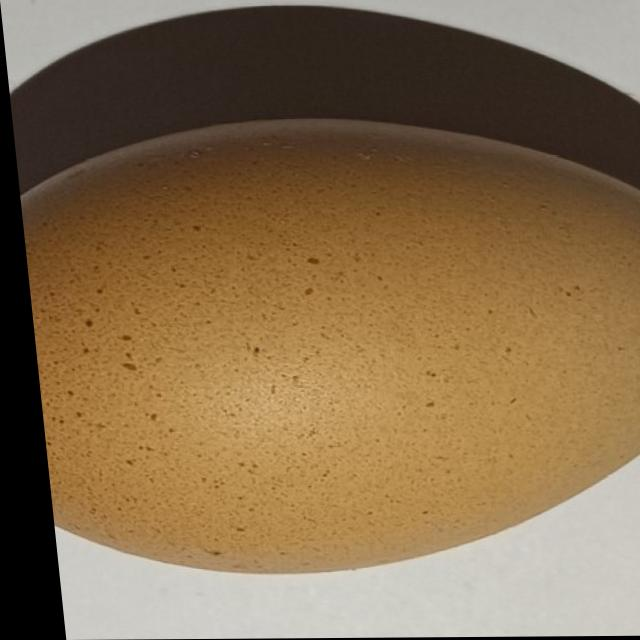unfresh: (9, 109, 640, 581)
